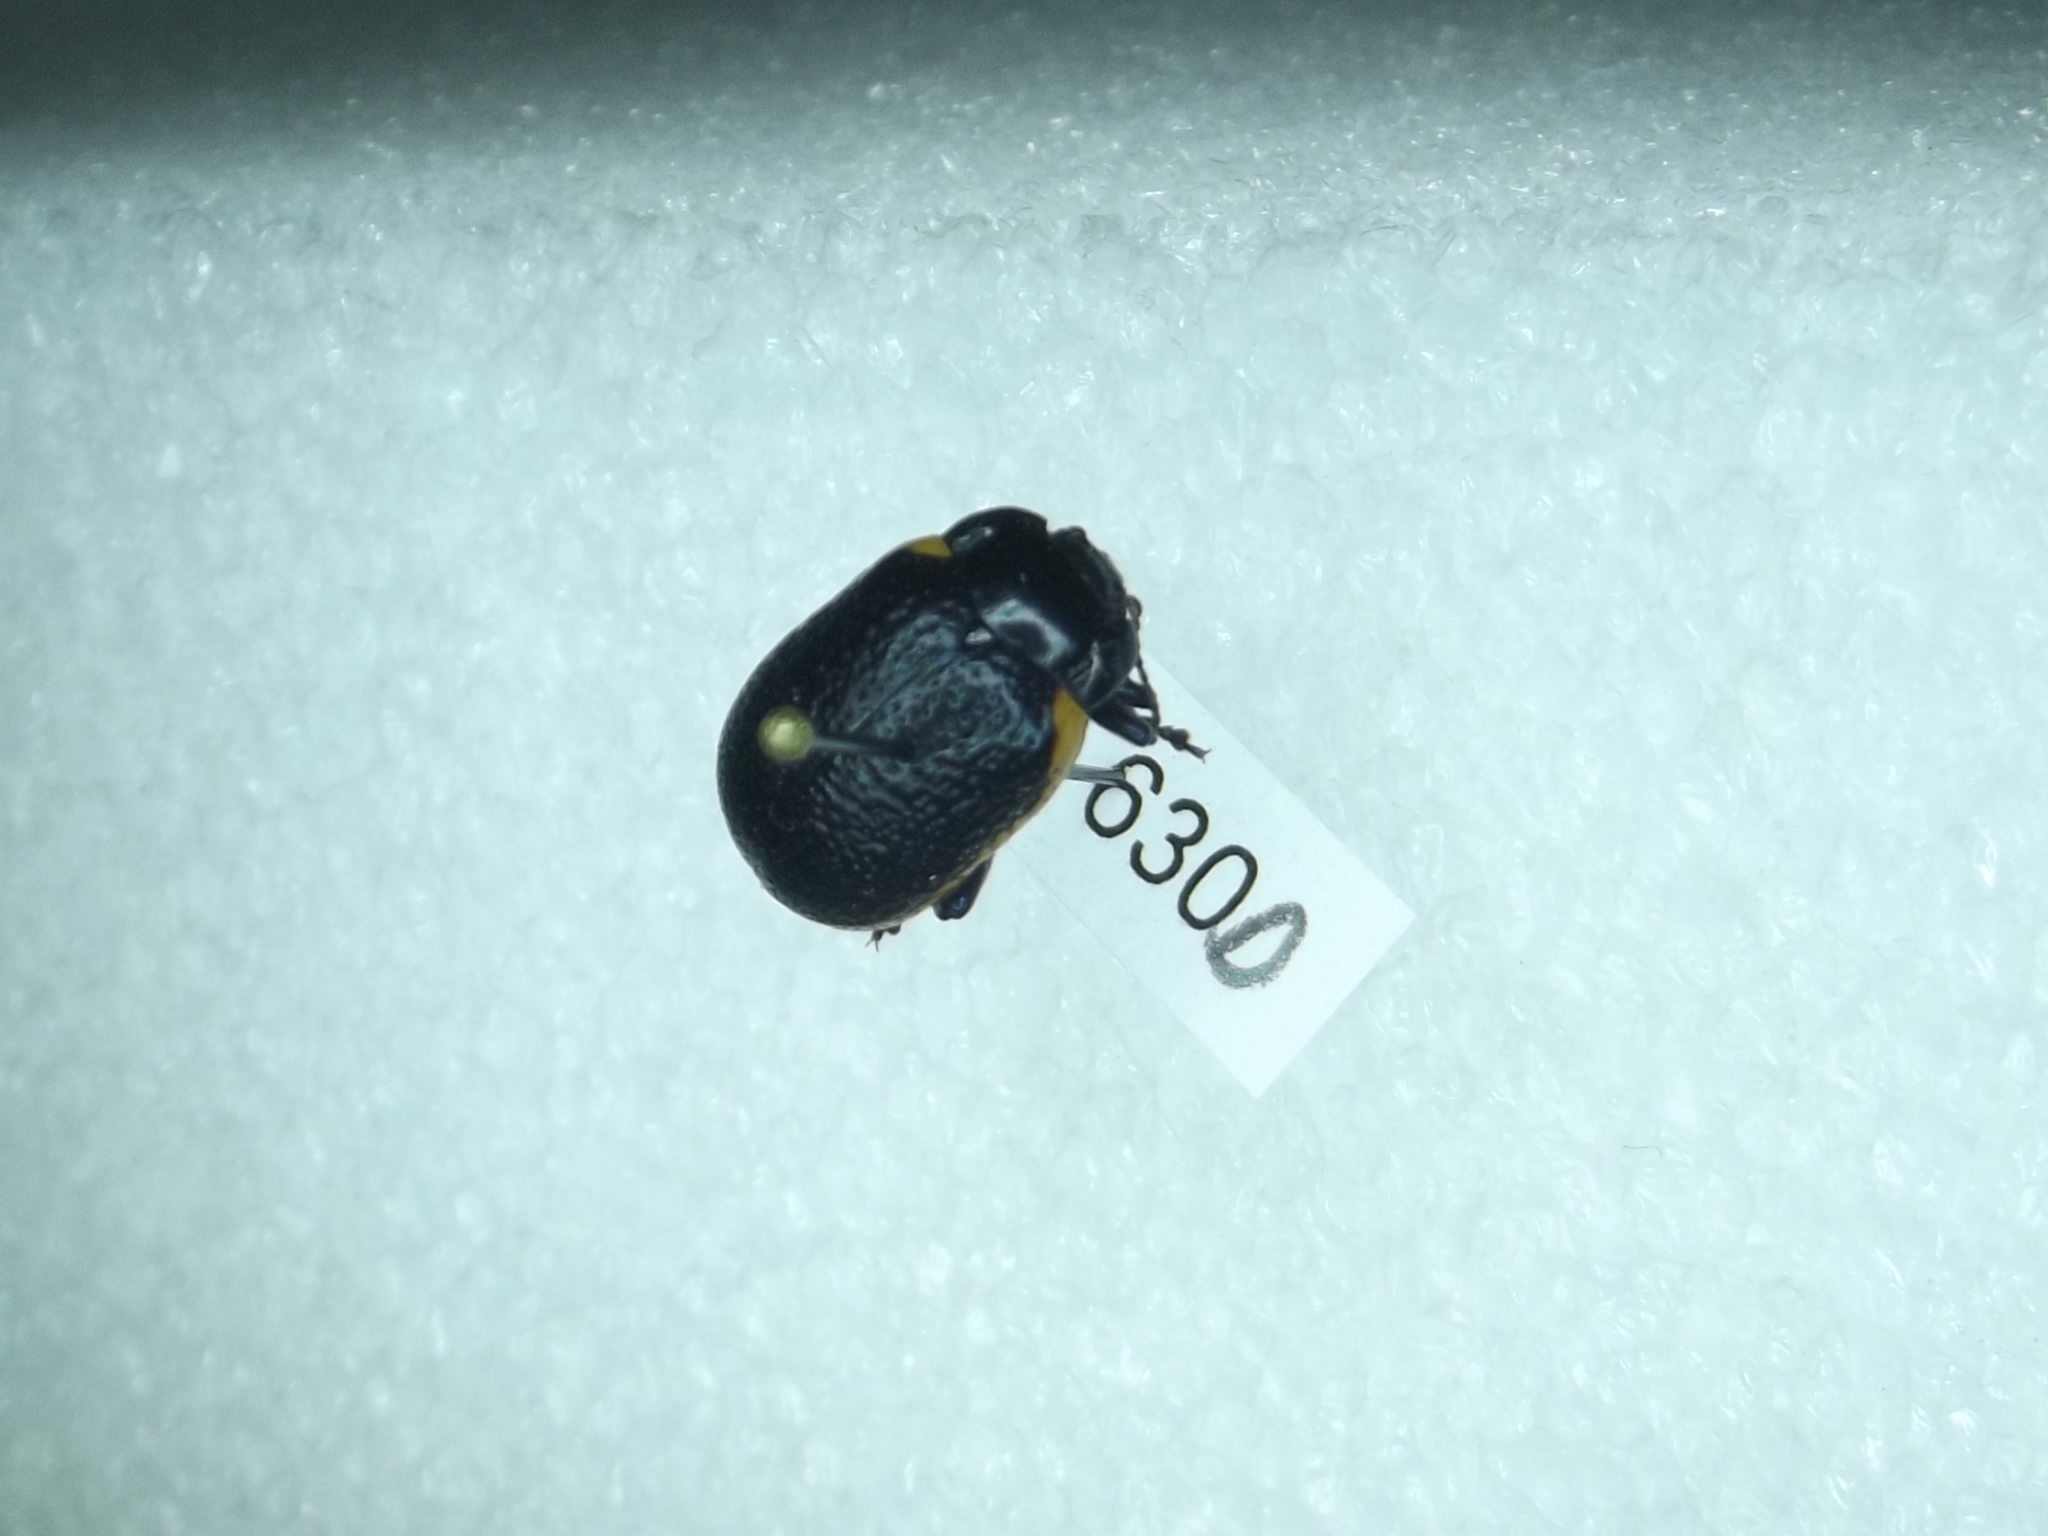Chrysolina_gypsophila: (713, 499, 1213, 960)
